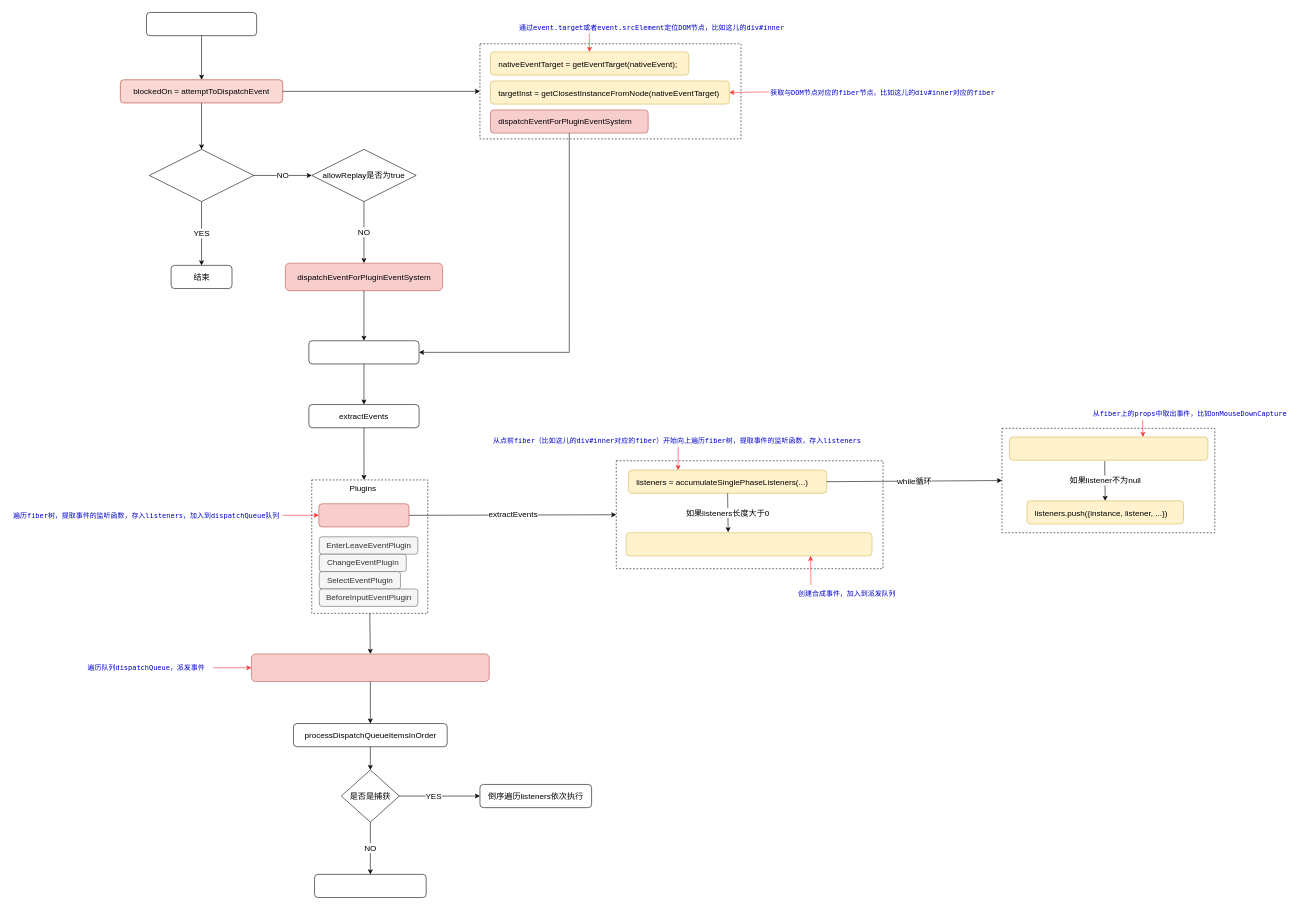
This 1304x908 diagram has some shape labels left out. Each missing label, with the centre of its shape:
"blockedOn是否为null" belongs at point (201, 175).
"dispatchEvent" belongs at point (201, 24).
"dispatchEventsForPlugins" belongs at point (363, 352).
"dispatchQueue.push({ new SyntheticEventCtor(...), listeners })" belongs at point (749, 544).
"listener = getListener(instance, reactEventName)" belongs at point (1108, 448).
"processDispatchQueue(dispatchQueue, eventSystemFlags)" belongs at point (370, 667).
"SimpleEventPlugin" belongs at point (363, 515).
"正序遍历listeners依次执行" belongs at point (370, 886).
